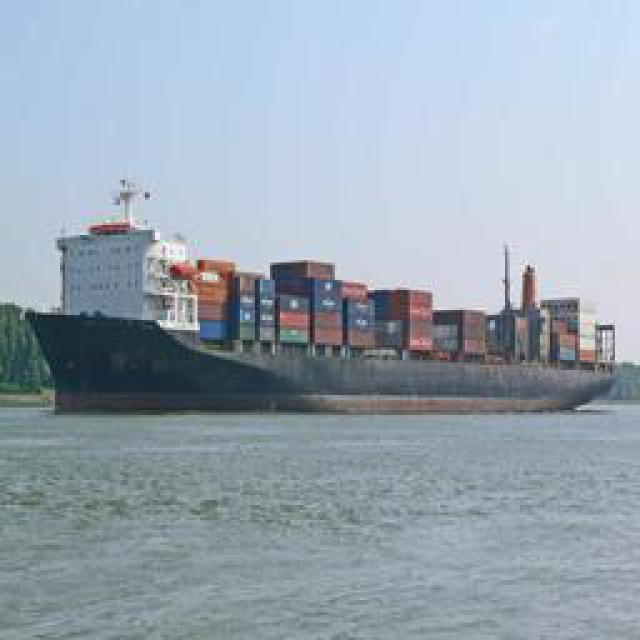Ship: (27, 195, 617, 413)
